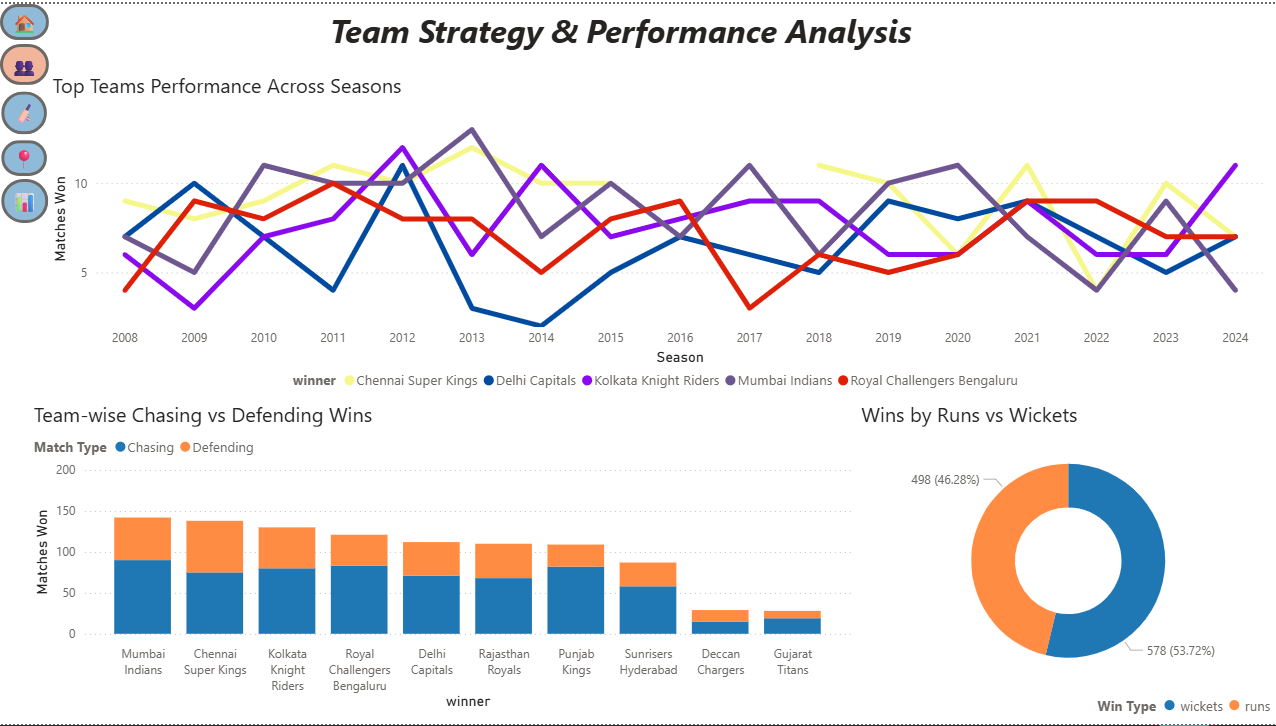

The dashboard page shown, as its layout file describes it:
{"tool":"powerbi","page":{"name":"Team Analysis 👥","canvas":[1280,720],"ordinal":1},"visuals":[{"type":"lineChart","title":"Top Teams Performance Across Seasons","fields":{"Category":["Merged Dataset.Season"],"Y":["Count(Merged Dataset.Match_id)"],"Series":["Merged Dataset.winner"]},"box":[47.7,67.4,1220.9,327.9],"z":0},{"type":"columnChart","title":"Team-wise Chasing vs Defending Wins","fields":{"Category":["Merged Dataset.winner"],"Series":["Merged Dataset.Match Type"],"Y":["Count(Merged Dataset.Match_id)"]},"box":[28.6,395.7,827.1,314.3],"z":1000},{"type":"donutChart","title":"Wins by Runs vs Wickets","fields":{"Y":["Count(Merged Dataset.Match_id)"],"Category":["Merged Dataset.Win Type"]},"box":[855.7,395.7,424.3,324.3],"z":2000},{"type":"textbox","box":[324.7,0,640.6,67.2],"z":3000},{"type":"actionButton","title":"Home","box":[0.1,0,49,36],"z":5000,"group":"g1"},{"type":"actionButton","title":"Home","box":[1.1,175,47,44],"z":6000,"group":"g1"},{"type":"actionButton","title":"Home","box":[1.7,135.7,45.7,35.7],"z":7000,"group":"g1"},{"type":"actionButton","title":"Home","box":[1.7,87.1,45.7,42.9],"z":8000,"group":"g1"},{"type":"actionButton","title":"Home","box":[0.1,40.5,49,41],"z":9000,"group":"g1"},{"type":"group","id":"g1","title":"Group 1","box":[0.1,0,49,219],"z":9001}]}

Visuals, with their boxes in screenshot pixels (x1, y1, x2, y2), scaled from the page's 1280x720 canvas onto the 1276x726 screenshot:
"Top Teams Performance Across Seasons" lineChart: select_region(48, 68, 1265, 399)
"Team-wise Chasing vs Defending Wins" columnChart: select_region(29, 399, 853, 716)
"Wins by Runs vs Wickets" donutChart: select_region(853, 399, 1275, 725)
textbox: select_region(324, 0, 962, 68)
"Home" actionButton: select_region(0, 0, 49, 36)
"Home" actionButton: select_region(1, 176, 48, 221)
"Home" actionButton: select_region(2, 137, 47, 173)
"Home" actionButton: select_region(2, 88, 47, 131)
"Home" actionButton: select_region(0, 41, 49, 82)
"Group 1" group: select_region(0, 0, 49, 221)
